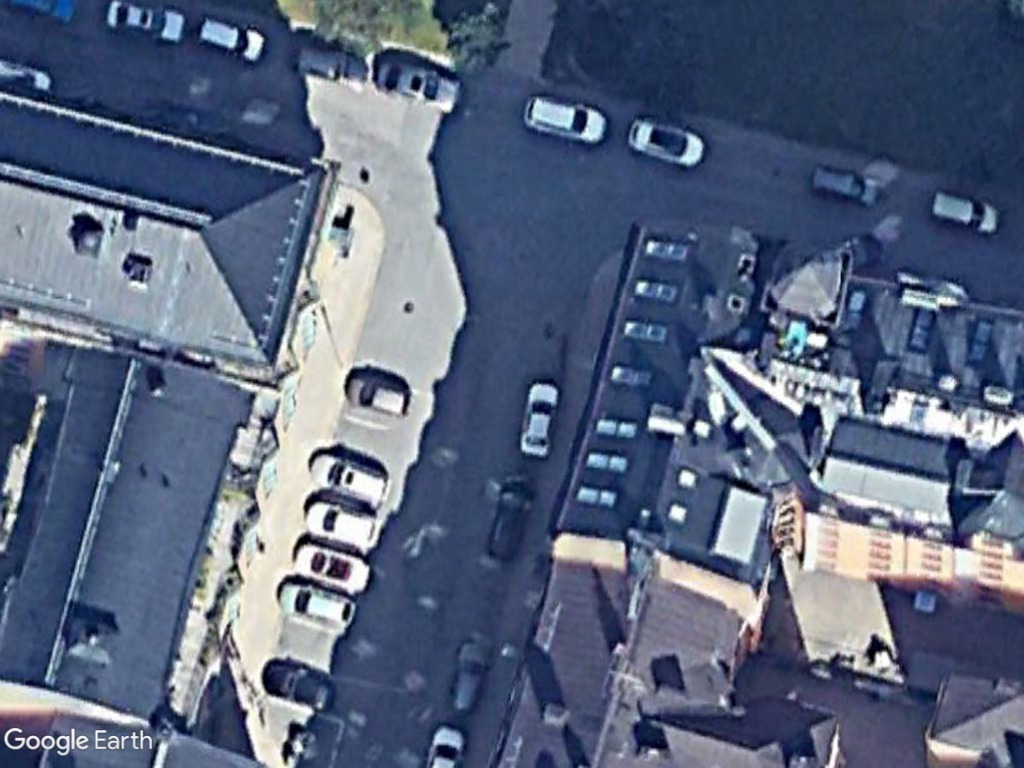car: (476, 465, 540, 573), (618, 108, 712, 179), (367, 51, 468, 111), (288, 533, 377, 597), (271, 576, 364, 634), (516, 93, 609, 150), (306, 449, 395, 508), (298, 495, 385, 554), (259, 657, 344, 717), (804, 154, 890, 212), (286, 40, 374, 94), (927, 183, 1008, 240), (190, 10, 273, 64), (98, 0, 186, 50), (441, 636, 493, 719), (516, 375, 565, 461), (339, 369, 418, 421)
